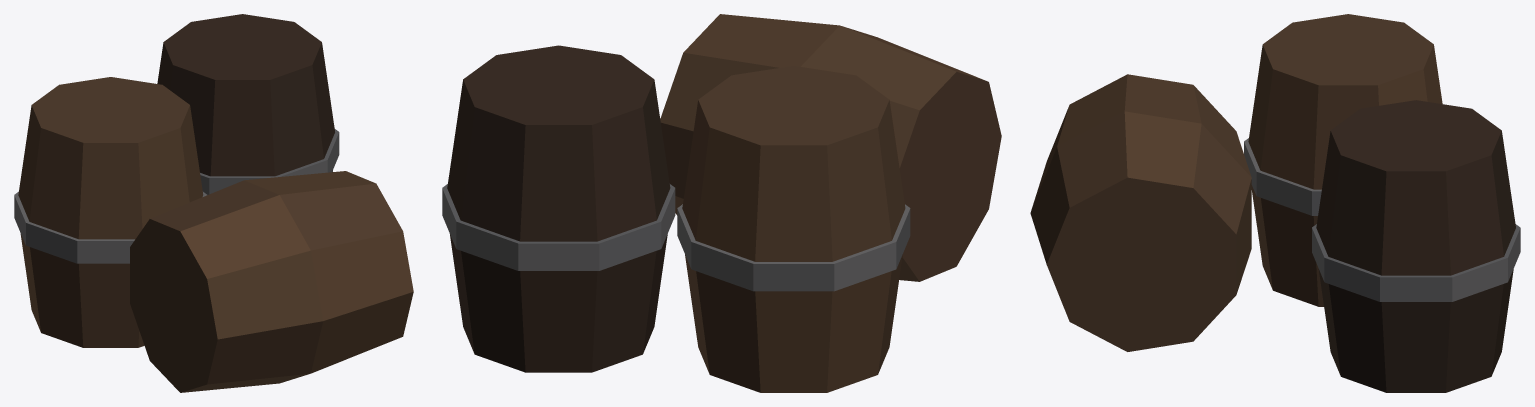
Rendered from walk_prop_barrels.glb.
3 renders of one model, left to right at view 1: azimuth 30°, elevation 25°; view 2: azimuth 150°, elevation 25°; view 3: azimuth 270°, elevation 25°, orthographic. The views are drawn at different scales.
Parts seen in each view (by area): view 1: walk_prop_barrels; view 2: walk_prop_barrels; view 3: walk_prop_barrels.
Boxes of the visible parts, x1=… form: walk_prop_barrels: x1=14, y1=14, x2=413, y2=392; walk_prop_barrels: x1=442, y1=14, x2=1001, y2=392; walk_prop_barrels: x1=1030, y1=14, x2=1520, y2=392.
Size of what is drawn, in the model's own units: 1.51 by 0.9336 by 1.8.
2 materials, 2 textured.
